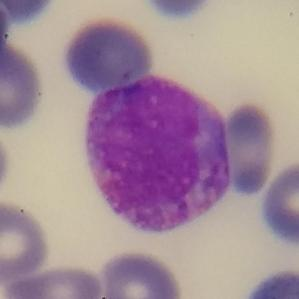Basophil: (82, 65, 239, 247)
RBC: (57, 11, 158, 100), (218, 100, 280, 198), (0, 27, 48, 133), (93, 246, 186, 299), (0, 197, 52, 280), (257, 158, 299, 248), (7, 262, 105, 299), (134, 0, 222, 23), (238, 267, 298, 299), (0, 0, 64, 28), (0, 120, 13, 204), (0, 0, 10, 66)
